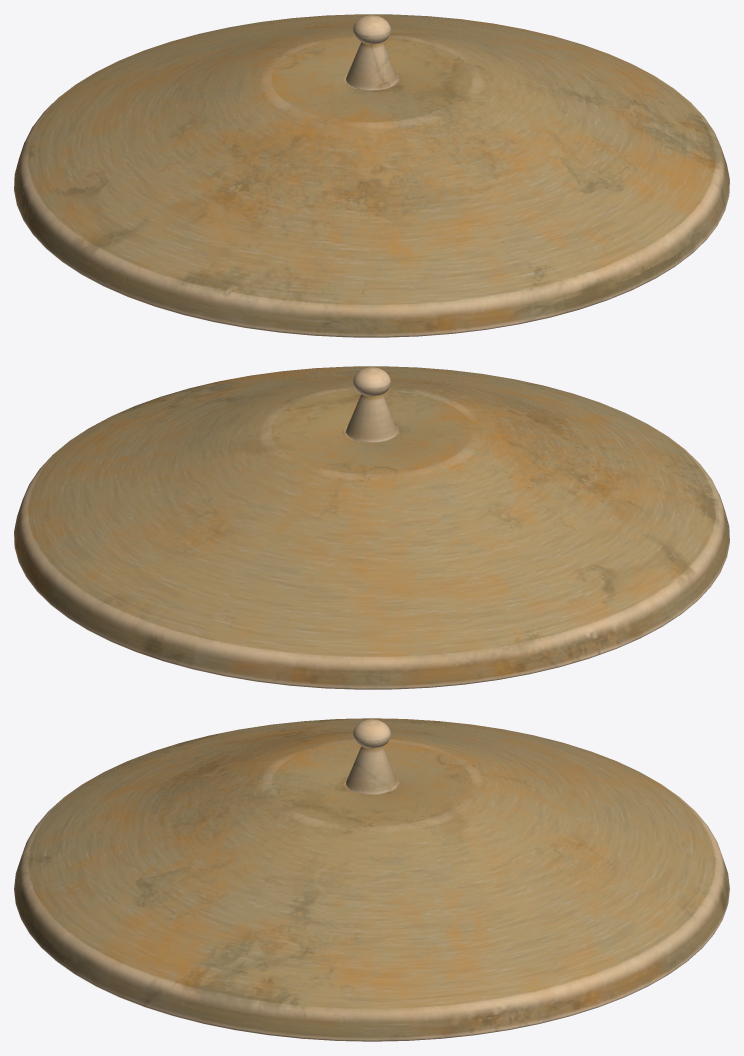
Rendered from SM_SoupBowl_T.fbx.
The picture shows the model from 3 angles, top to bottom: view 1: azimuth 30°, elevation 25°; view 2: azimuth 150°, elevation 25°; view 3: azimuth 270°, elevation 25°; orthographic projection.
Visible parts, largest first — view 1: SM_SoupBowl_T; view 2: SM_SoupBowl_T; view 3: SM_SoupBowl_T.
Boxes of the visible parts, left/top/right/bottom form: SM_SoupBowl_T: left=14, top=14, right=729, bottom=337; SM_SoupBowl_T: left=14, top=366, right=729, bottom=689; SM_SoupBowl_T: left=14, top=718, right=729, bottom=1041.
Size of the model in its own units: 15.88 by 4.17 by 15.88.
Materials: 1 (1 with a texture image).
